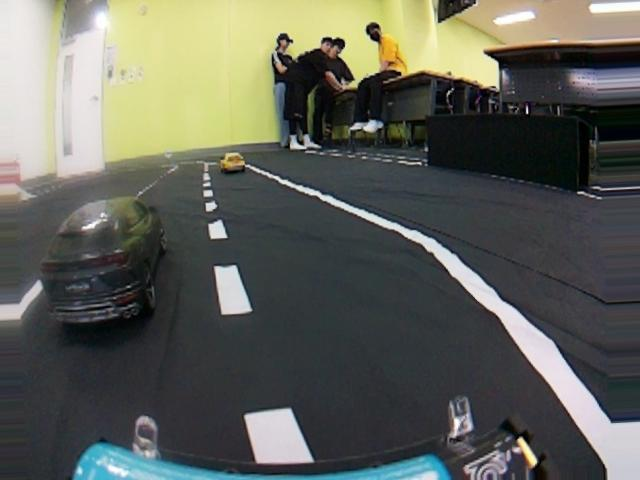car: (40, 197, 169, 319), (218, 151, 243, 174)
straight: (4, 207, 640, 476)
